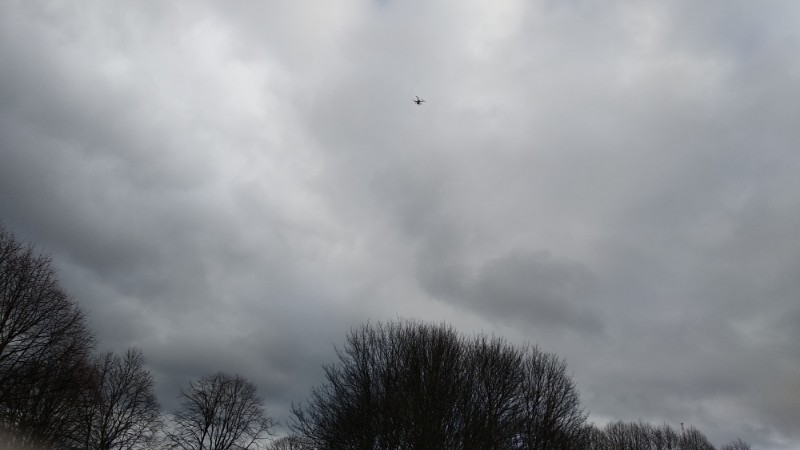drone: (413, 95, 426, 107)
